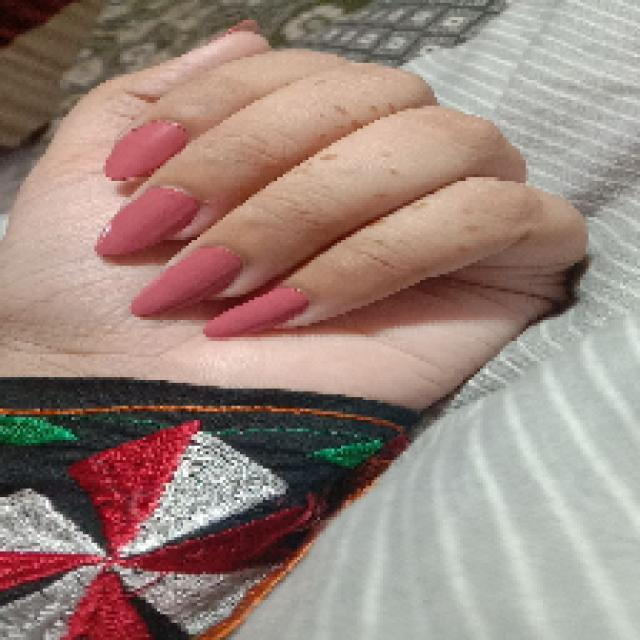Nail: (131, 246, 242, 316), (95, 186, 200, 256), (204, 286, 309, 337), (105, 120, 188, 179)
